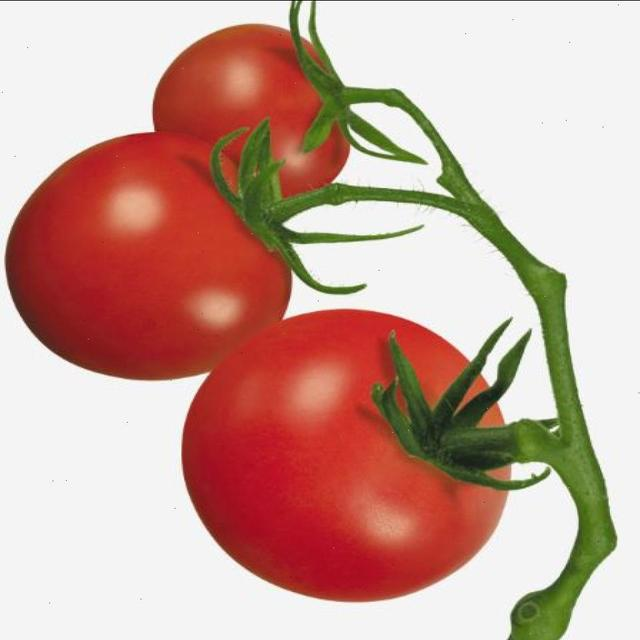Healthy Fruit: (109, 72, 237, 307)
